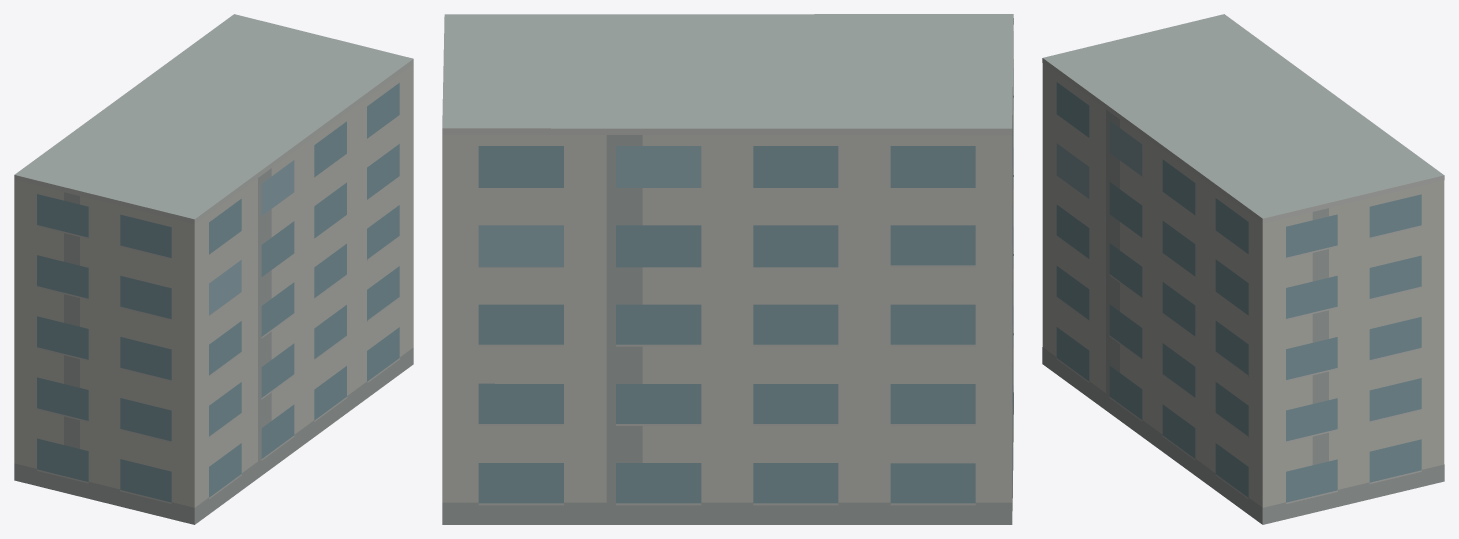
Rendered from survey-upis-32767296.glb.
3 renders of one model, left to right at view 1: azimuth 30°, elevation 25°; view 2: azimuth 150°, elevation 25°; view 3: azimuth 270°, elevation 25°, orthographic. The views are drawn at different scales.
Visible parts, largest first — view 1: survey-upis-32767296.tmp; view 2: survey-upis-32767296.tmp; view 3: survey-upis-32767296.tmp.
Boxes of the visible parts, <box> form: survey-upis-32767296.tmp: <box>14,14,413,524</box>; survey-upis-32767296.tmp: <box>442,14,1013,524</box>; survey-upis-32767296.tmp: <box>1042,14,1444,524</box>.
Bounding box in the file's own units: 20.94 × 14.6 × 17.38.
